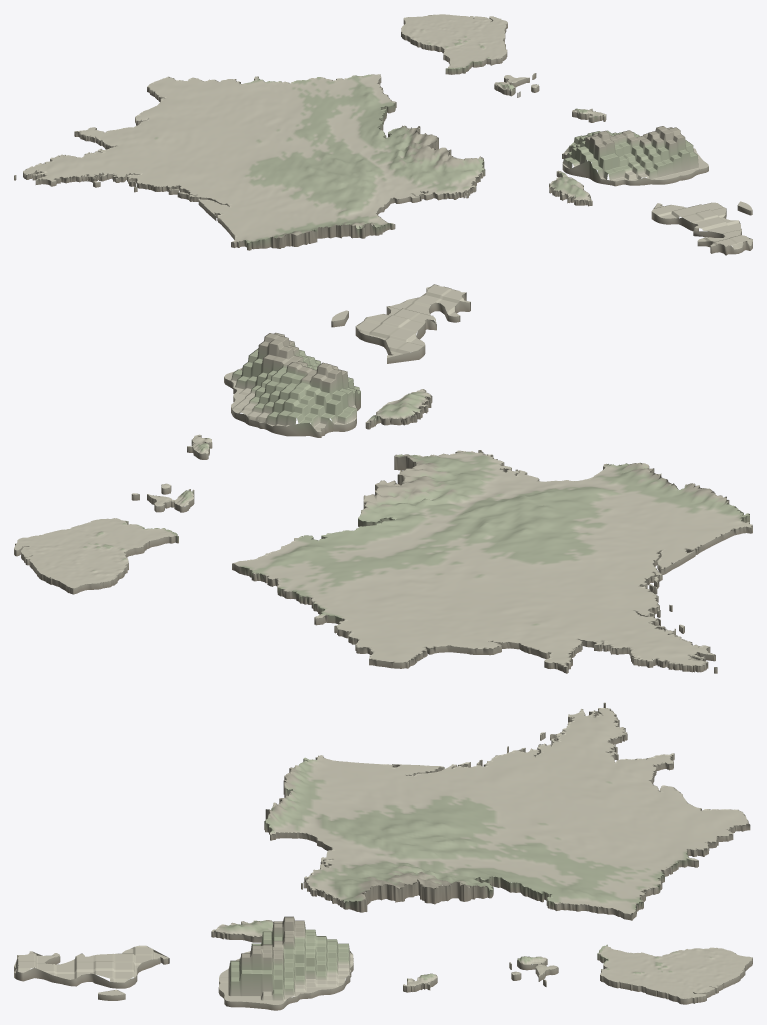
Rendered from fr-desktop.glb.
3 views of the same model, one above another, from view 1: azimuth 30°, elevation 25°; view 2: azimuth 150°, elevation 25°; view 3: azimuth 270°, elevation 25° (orthographic). The views are drawn at different scales.
Size of the model in its own units: 129 by 8.51 by 133.
